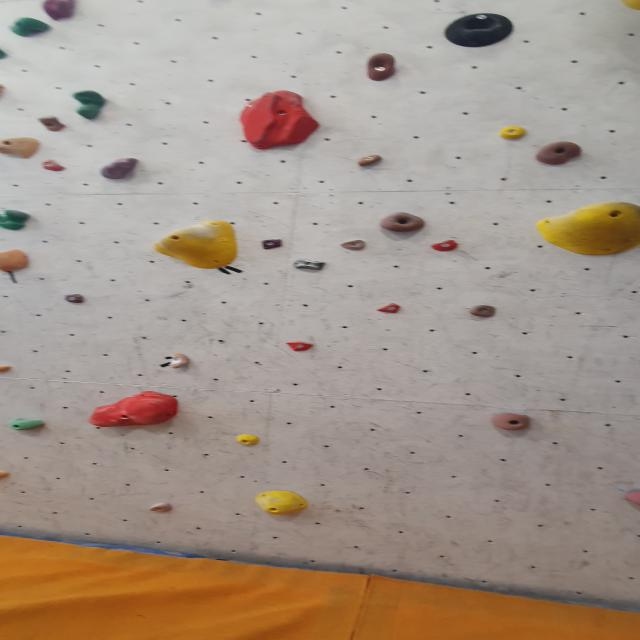Crimp: (236, 89, 328, 153), (494, 125, 532, 144), (336, 238, 372, 254), (353, 154, 388, 170), (429, 239, 463, 255), (282, 340, 316, 355), (232, 432, 263, 447), (40, 159, 69, 175), (373, 303, 406, 317), (258, 237, 288, 252), (148, 501, 177, 515), (63, 292, 88, 305), (0, 362, 13, 373)
Jug: (68, 85, 110, 122), (531, 139, 584, 166), (371, 211, 431, 233), (362, 53, 400, 84), (487, 411, 535, 434), (8, 15, 53, 38), (0, 208, 30, 233), (37, 113, 69, 132), (7, 418, 47, 432), (163, 353, 194, 371), (466, 304, 500, 320)
Pinch: (98, 156, 143, 182), (0, 135, 46, 159), (38, 0, 80, 22), (0, 248, 35, 274), (291, 256, 328, 272)
Pocket: (434, 9, 523, 52)
Sloper: (531, 198, 639, 258), (150, 218, 246, 275), (86, 392, 185, 432), (252, 489, 311, 517)
